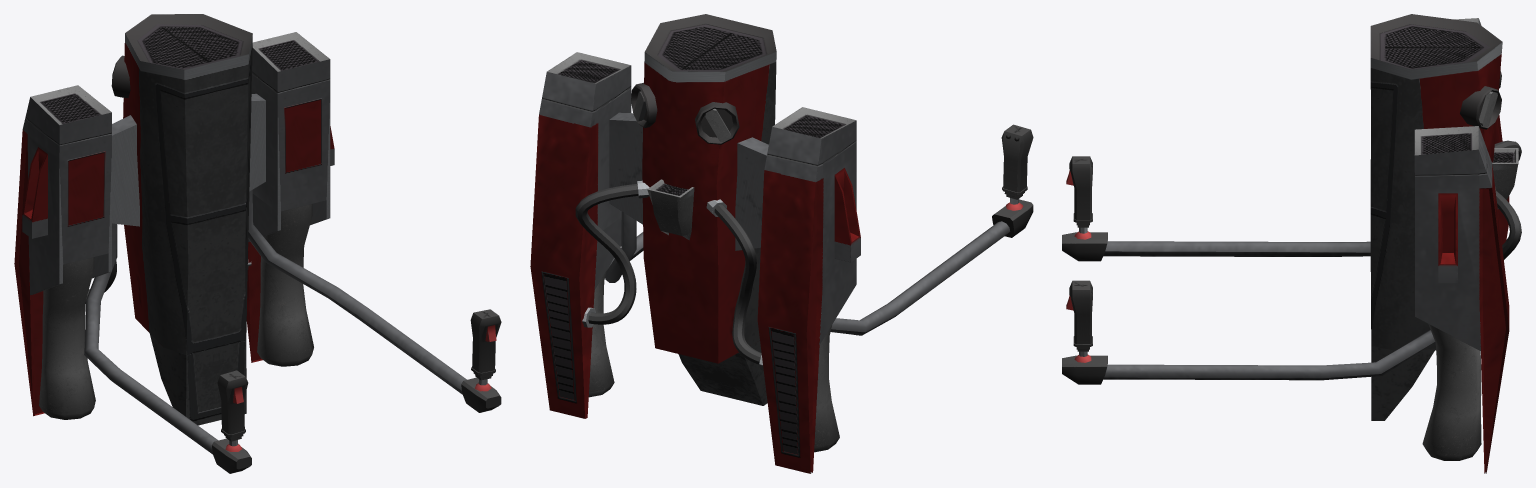
The model's file is Jetpack_Scifi.fbx.
3 renders of one model, left to right at view 1: azimuth 30°, elevation 25°; view 2: azimuth 150°, elevation 25°; view 3: azimuth 270°, elevation 25°, orthographic. The views are drawn at different scales.
Parts seen in each view (by area): view 1: Jetpack_Scifi; view 2: Jetpack_Scifi; view 3: Jetpack_Scifi.
Part boxes in pixels (<box>): Jetpack_Scifi: <box>14,14,501,473</box>; Jetpack_Scifi: <box>530,14,1033,473</box>; Jetpack_Scifi: <box>1062,14,1521,473</box>.
Bounding box in the file's own units: 58 × 66.86 × 75.37.
Materials: 1 (1 with a texture image).
